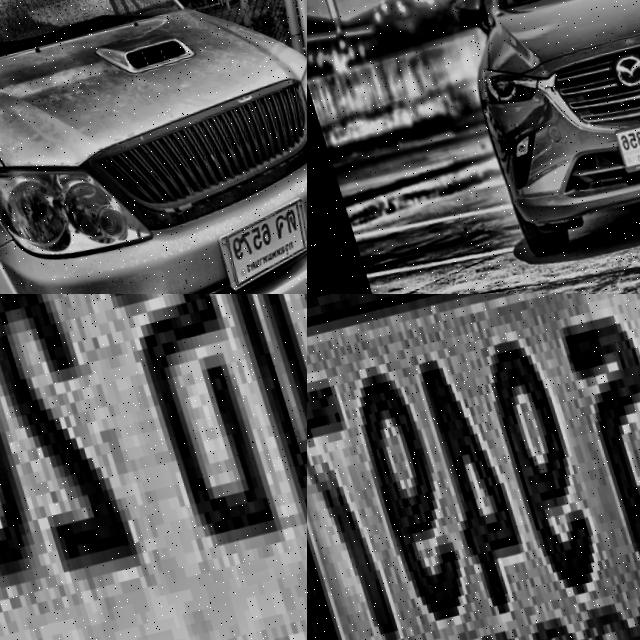license-plate: (307, 294, 640, 640), (0, 294, 307, 640), (197, 196, 307, 294), (597, 113, 640, 179)
